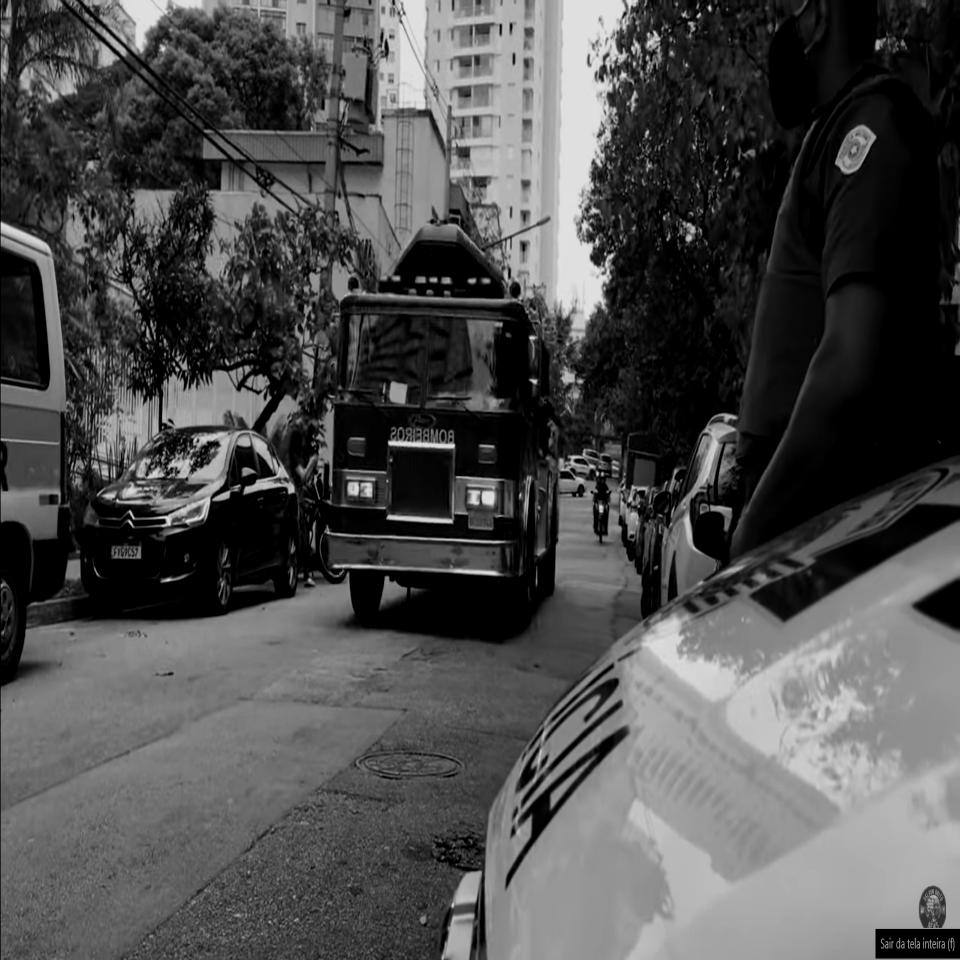bombeiro: (326, 224, 561, 628)
